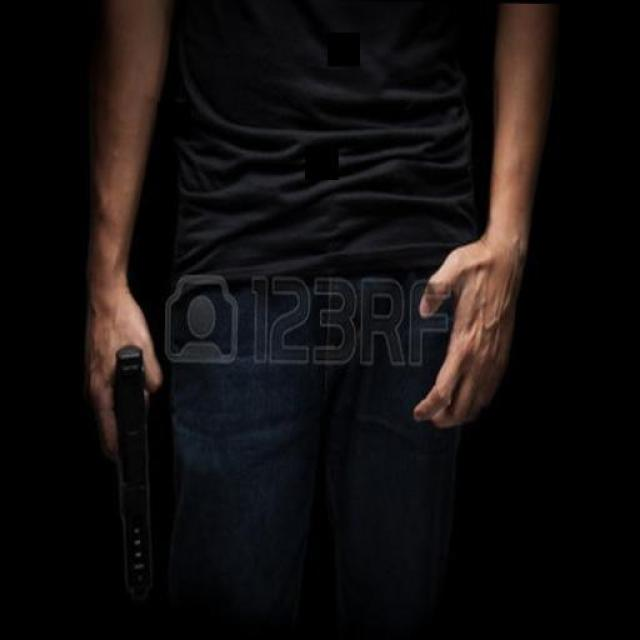gun: (102, 342, 158, 604)
